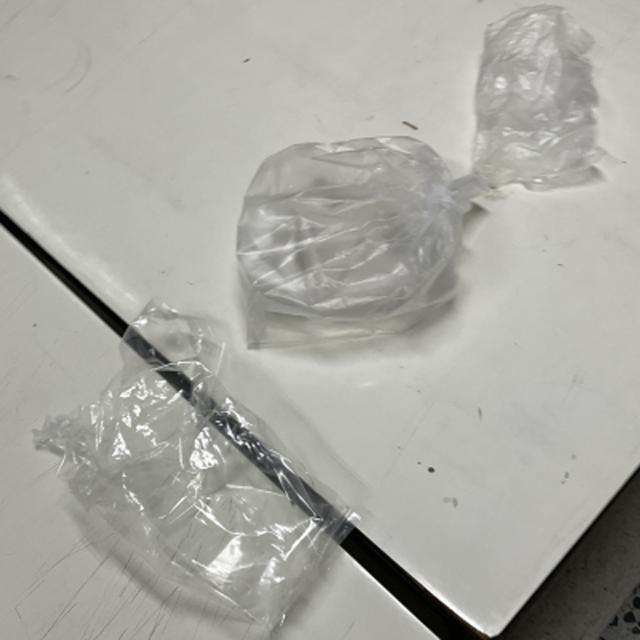Single-layer Plastic: (35, 301, 355, 629), (236, 136, 486, 348), (472, 5, 604, 190)
